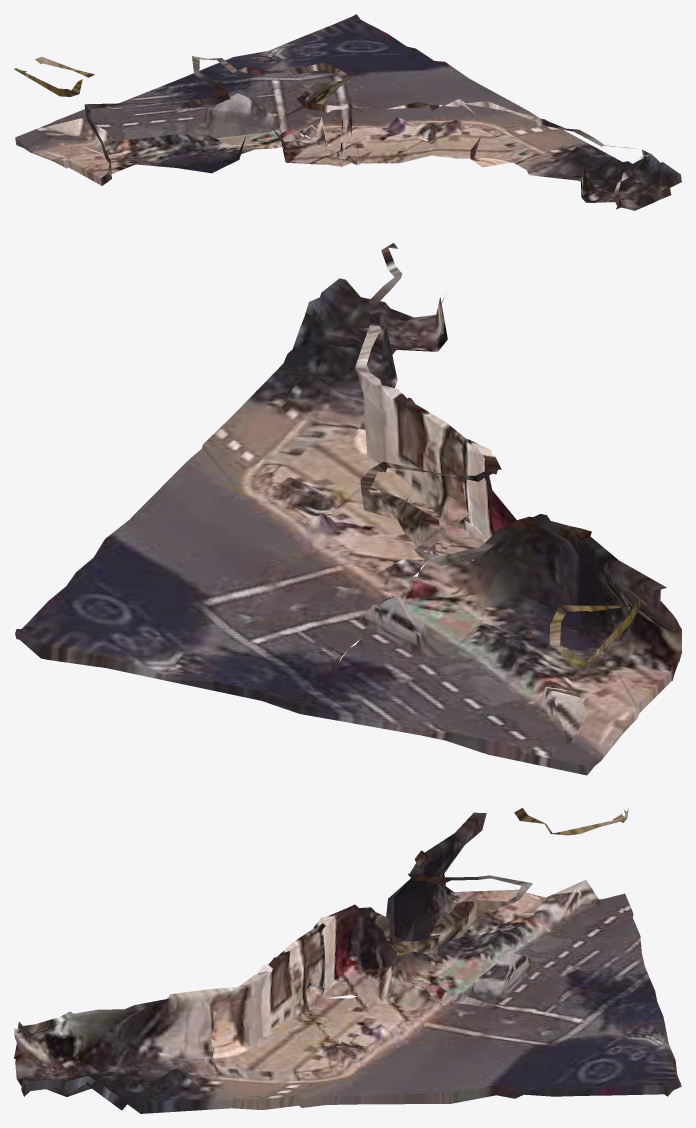
3 renders of one model, top to bottom at view 1: azimuth 30°, elevation 25°; view 2: azimuth 150°, elevation 25°; view 3: azimuth 270°, elevation 25°, orthographic. The views are drawn at different scales.
Visible parts, largest first — view 1: Mesh_0; view 2: Mesh_0; view 3: Mesh_0.
Part boxes in pixels (<box>): Mesh_0: <box>14,14,681,210</box>; Mesh_0: <box>15,243,681,775</box>; Mesh_0: <box>14,808,681,1113</box>.
Bounding box in the file's own units: 33.4 × 6.6 × 38.7.
Materials: 1 (1 with a texture image).
